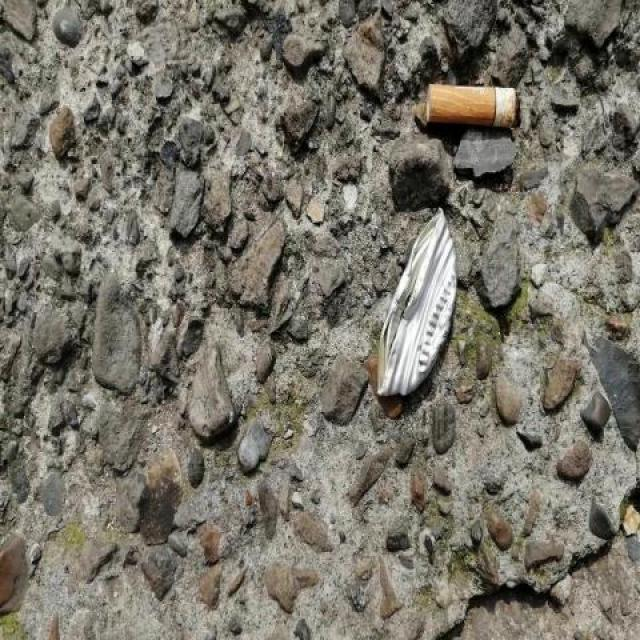non-organic waste: (417, 80, 527, 139)
